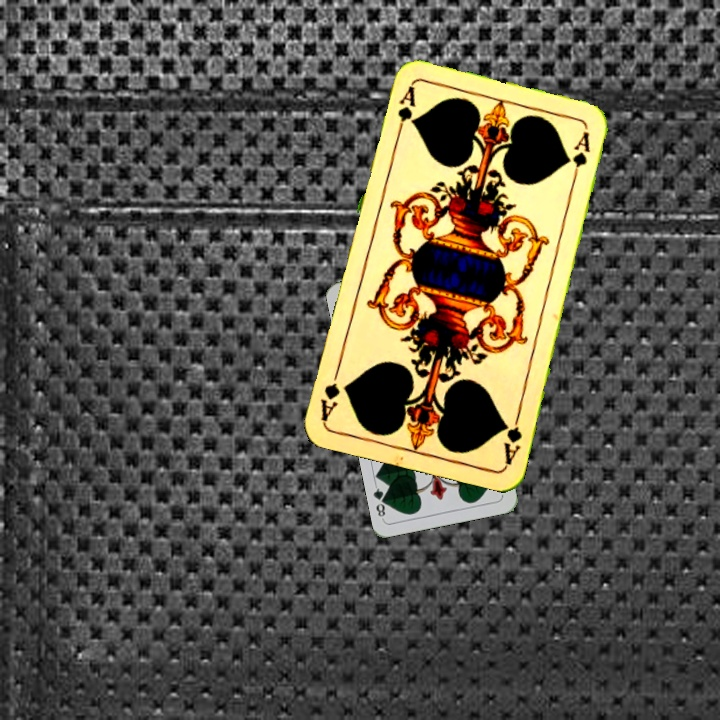GA: (499, 408, 525, 467), (392, 82, 418, 141)
